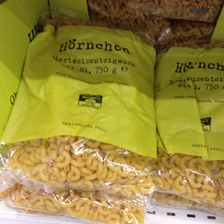pasta: (3, 13, 158, 195), (153, 42, 224, 205)
